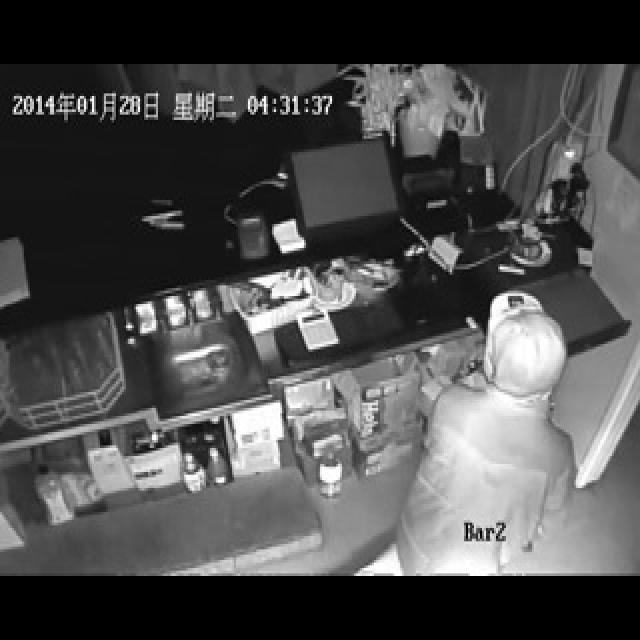thief: (464, 291, 584, 495)
